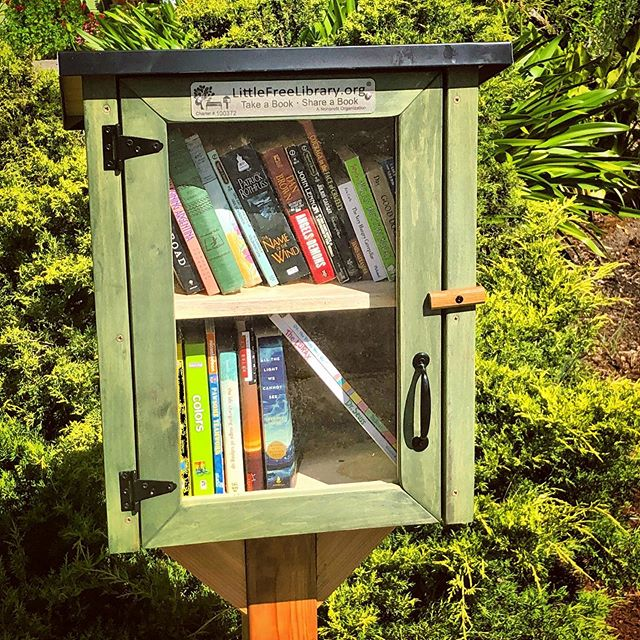bookstand: (88, 64, 455, 542)
vegetation: (469, 1, 640, 633), (1, 8, 92, 637)
